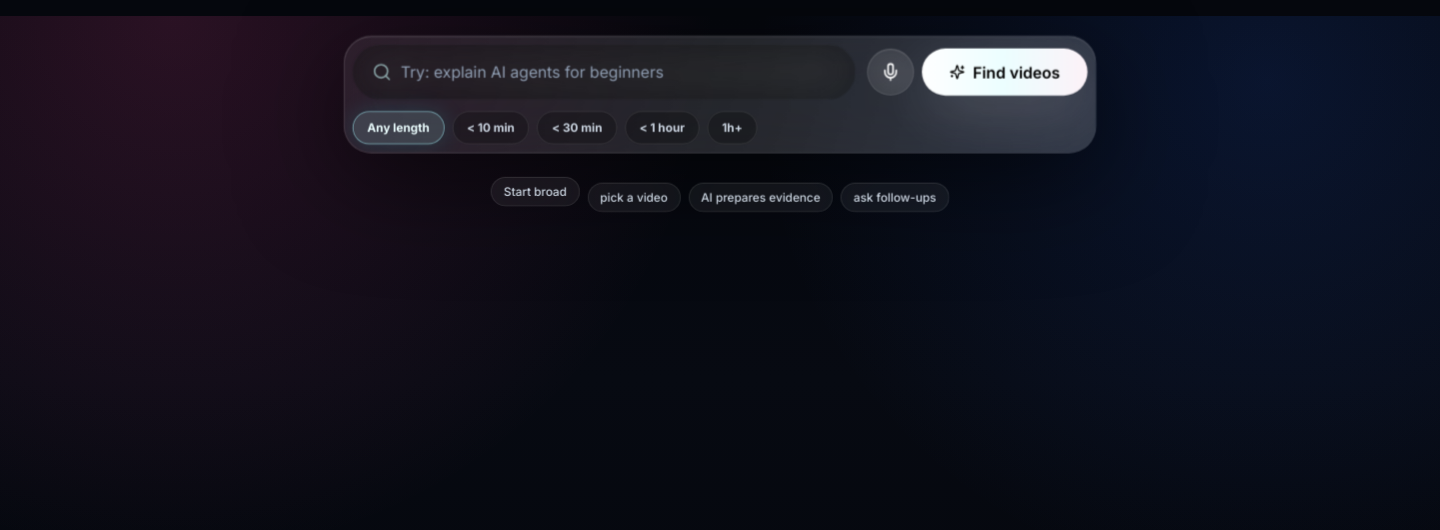
SearchConsole – voice input › Web Speech API › shows interim transcript inside the listening strip
Click the button named "start voice search": x=890, y=72 [867,48,914,95]
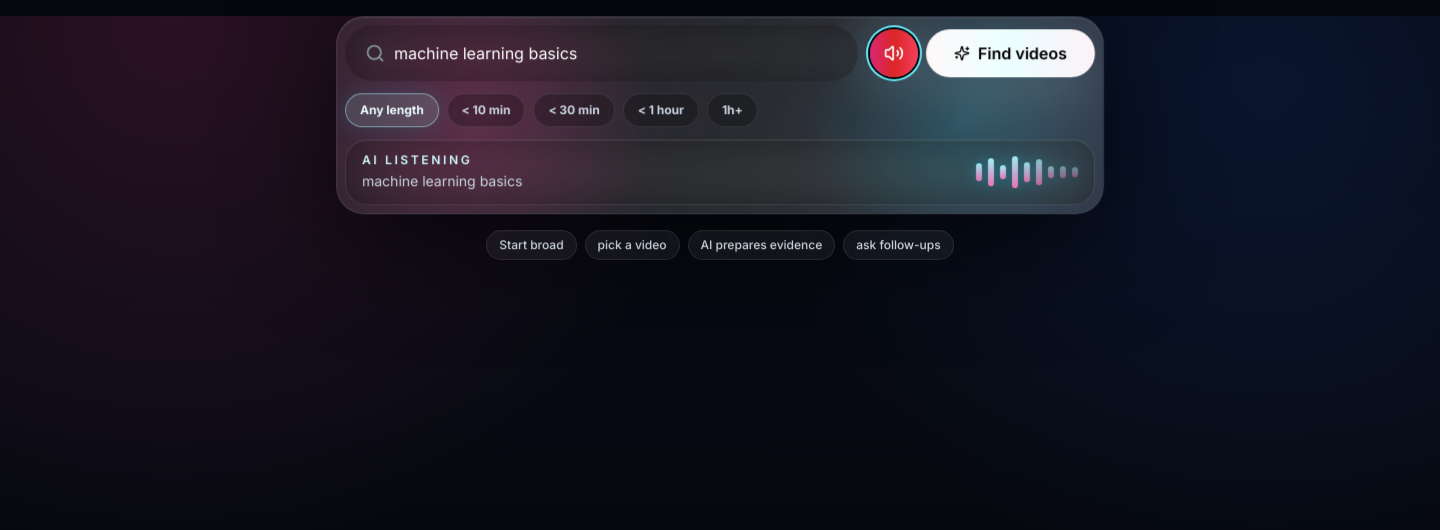
Expected: the text "machine learning basics" is shown, [362,172,522,192]
